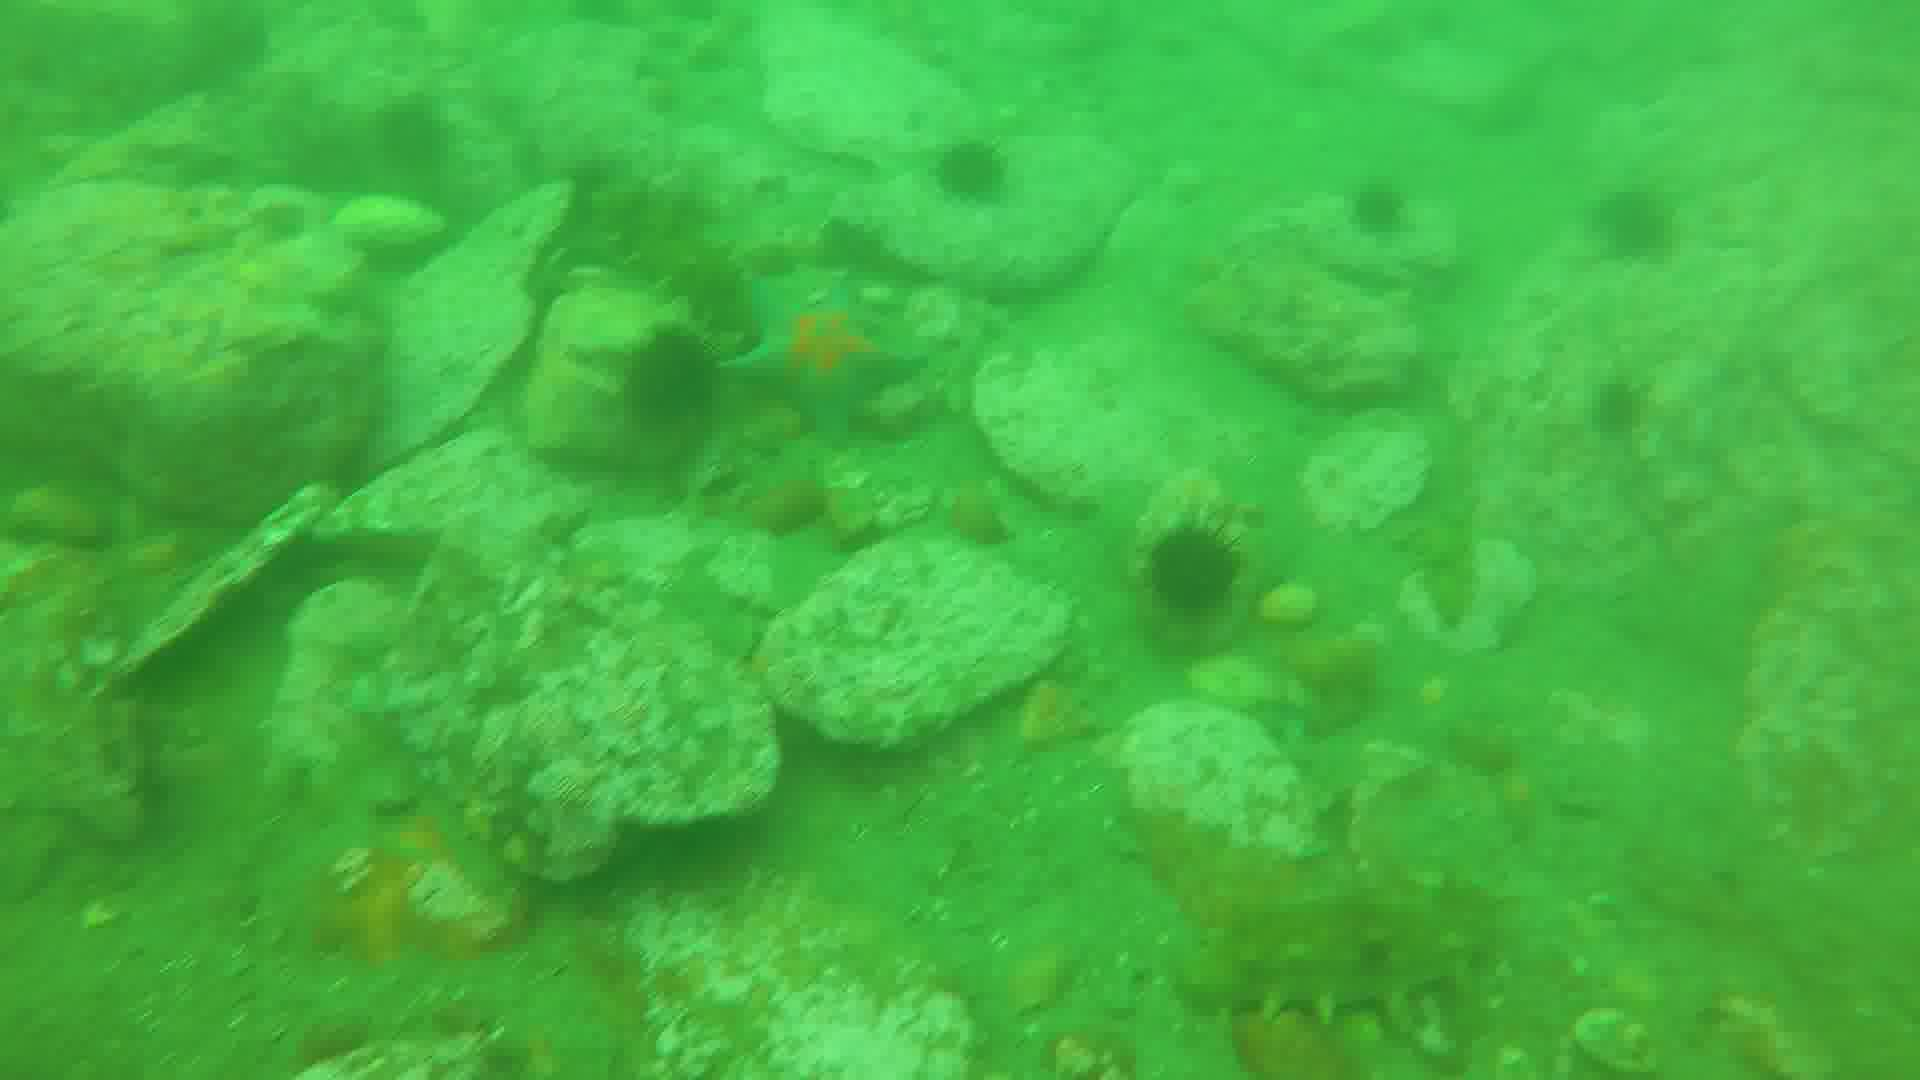echinus: (622, 328, 723, 440), (1141, 521, 1242, 616), (938, 142, 1015, 212), (1601, 185, 1673, 258), (1346, 185, 1408, 239)
holothurian: (1193, 928, 1481, 1023)
starfish: (727, 266, 926, 436)
